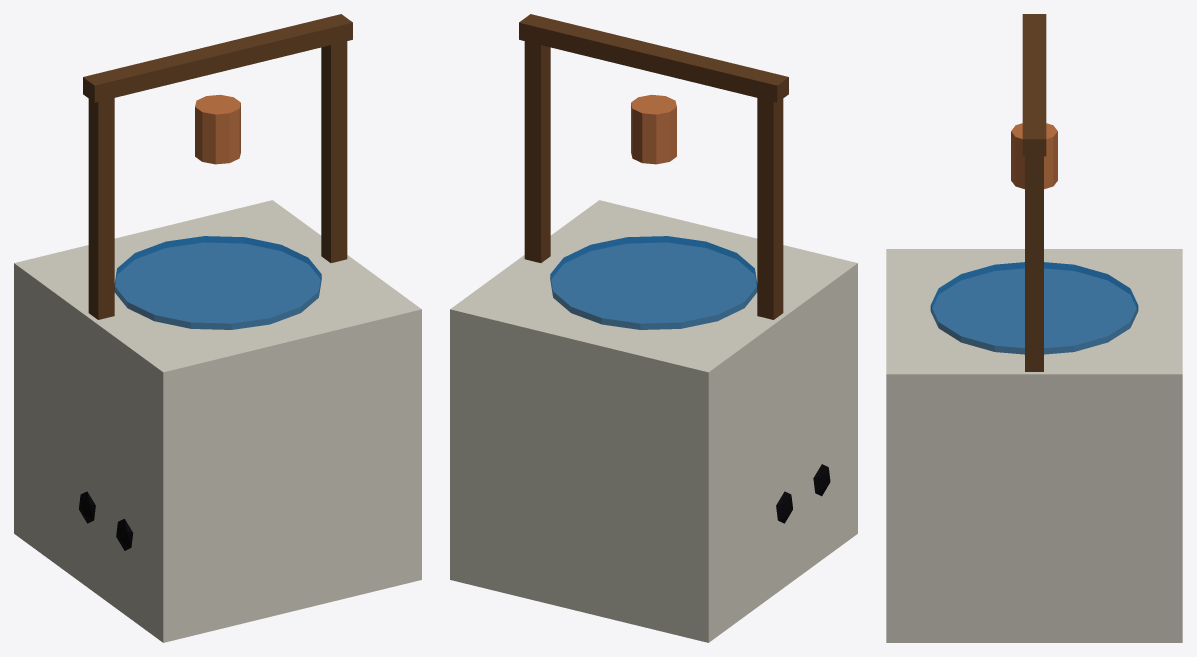
File: Bld_OR_DiceWell_01.glb
3 views of the same model, side by side, from view 1: azimuth 30°, elevation 25°; view 2: azimuth 150°, elevation 25°; view 3: azimuth 270°, elevation 25° (orthographic).
Visible parts, largest first — view 1: Bld_OR_DiceWell_01; view 2: Bld_OR_DiceWell_01; view 3: Bld_OR_DiceWell_01.
Part boxes in pixels (x1=…): Bld_OR_DiceWell_01: x1=14, y1=14, x2=421, y2=642; Bld_OR_DiceWell_01: x1=450, y1=14, x2=857, y2=642; Bld_OR_DiceWell_01: x1=886, y1=14, x2=1182, y2=642.
Size of the model in its own units: 1.93 by 3.56 by 1.9.
